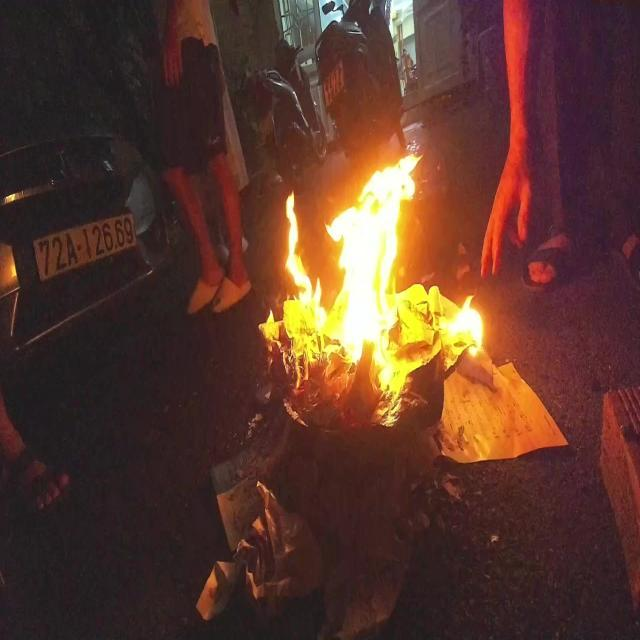Fire: (258, 150, 484, 403)
